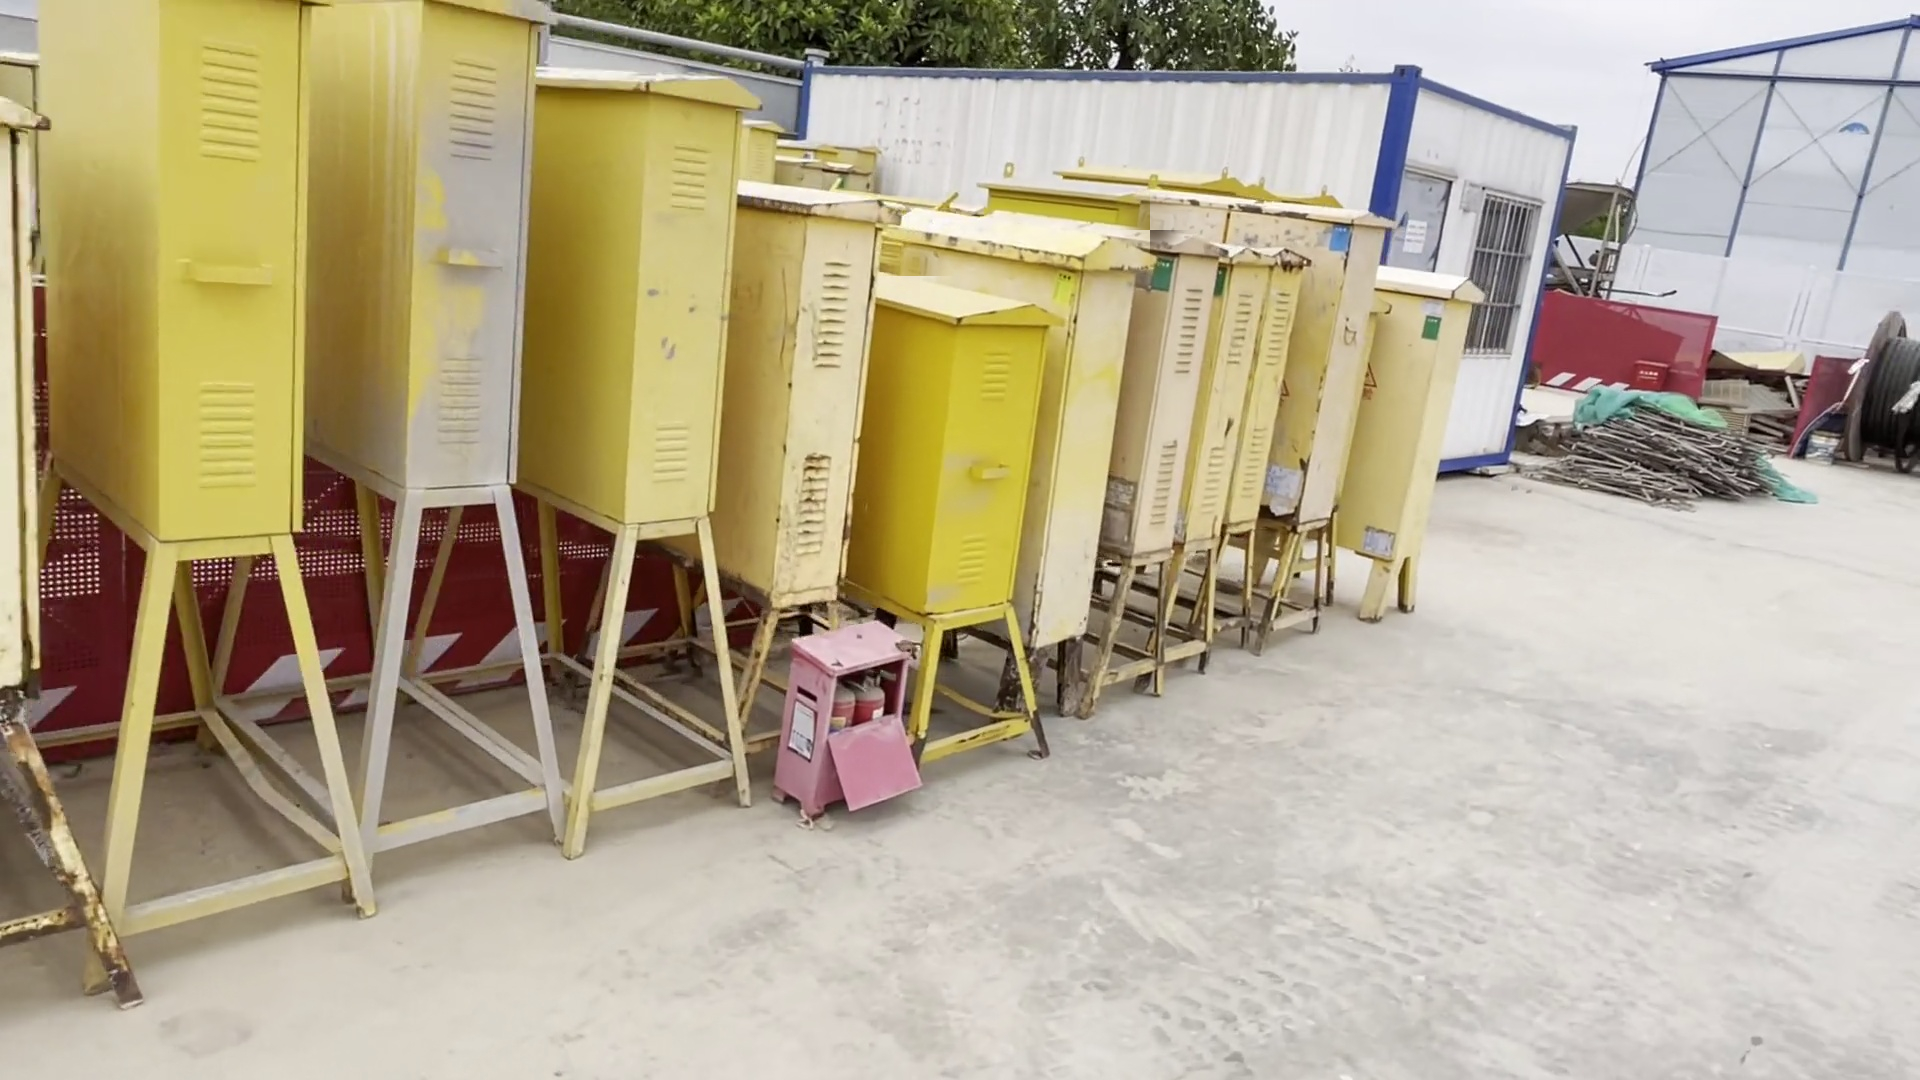ebox: (29, 1, 371, 981), (293, 1, 578, 894), (524, 50, 770, 848), (727, 175, 905, 779), (1102, 171, 1338, 593), (861, 268, 1058, 767), (905, 222, 1085, 716), (1348, 241, 1501, 620), (1083, 223, 1189, 717), (1155, 249, 1267, 694), (1208, 253, 1302, 645)
